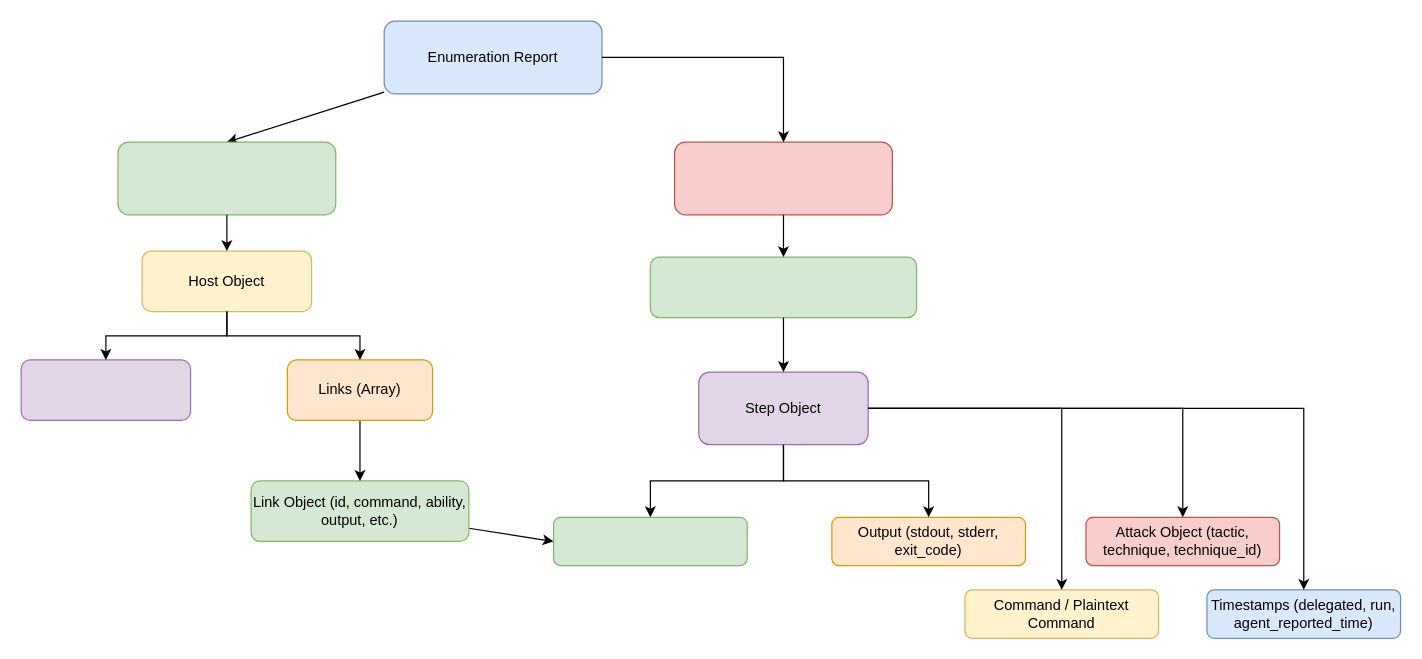
This 1422x659 diagram has some shape labels left out. The centre of each missing label's shape, as x and y in pixels:
"Host_Group (Array)" belongs at point (226, 178).
"Link Reference (id corresponds to a Link Object)" belongs at point (649, 541).
"Metadata (paw, group, host, username, PID, etc.)" belongs at point (105, 389).
"Steps (Object)" belongs at point (782, 178).
"Steps by Host ID (e.g., 'kwmxux', 'acpuoe', etc.)" belongs at point (783, 287).
